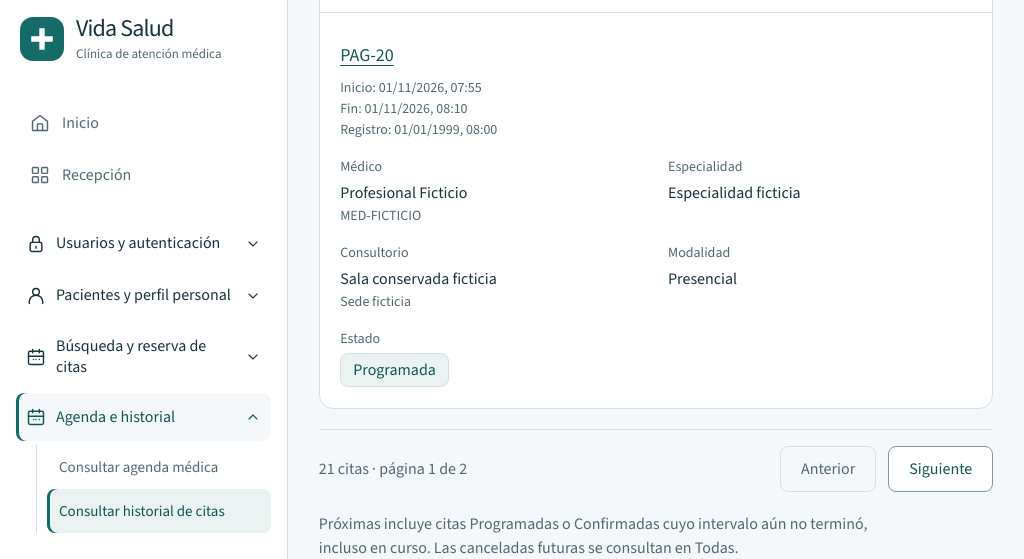
Recepcionista pagina y vuelve del detalle conservando criterios, sin guardar citas
(page scrolled)
Click the button "Siguiente" at (941, 469), box [888, 446, 993, 492]
(page scrolled)
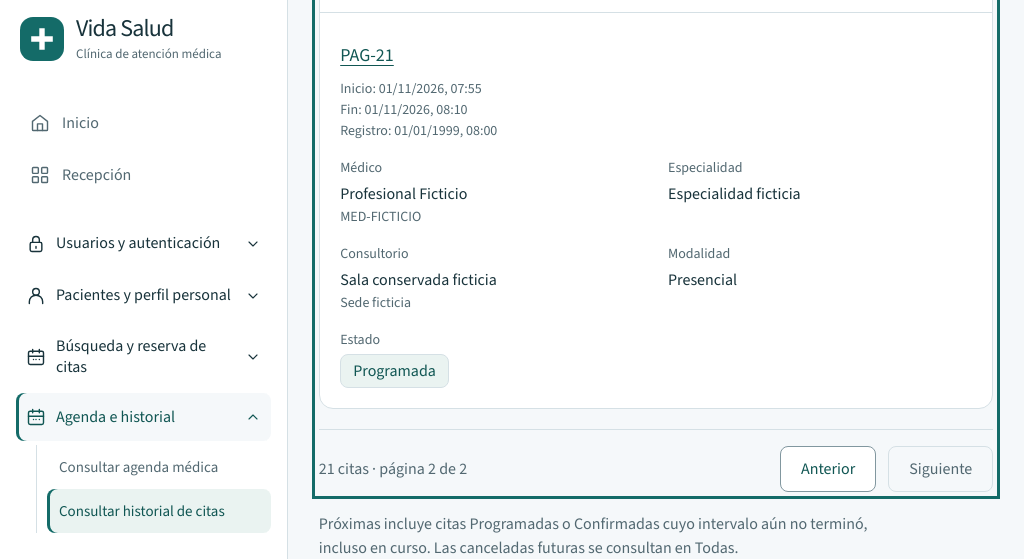
Click the link with aria-label "Ver cita PAG-21" at (367, 55), box [340, 43, 394, 67]
(page scrolled)
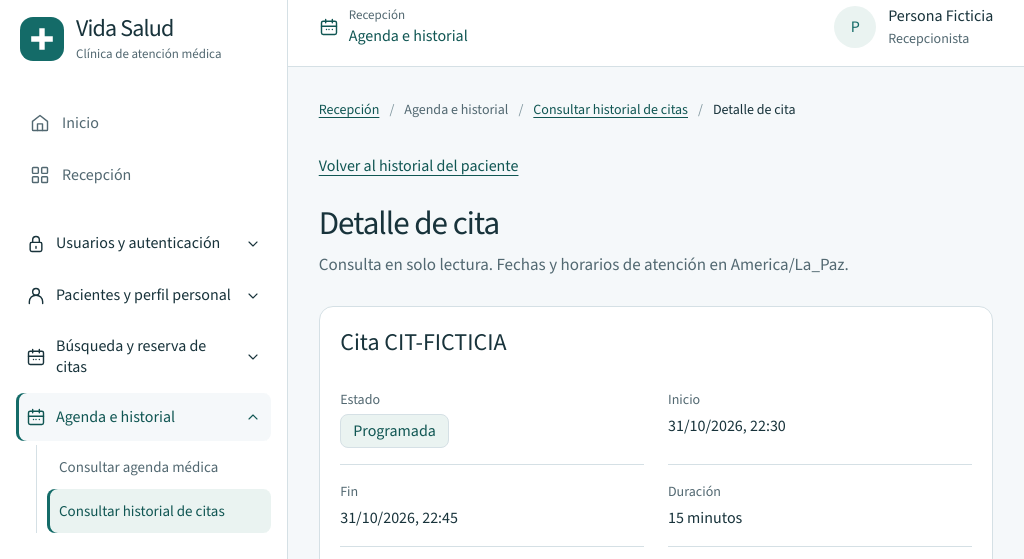
Click the link "Volver al historial del paciente" at (419, 166), box [319, 155, 518, 176]
(page scrolled)
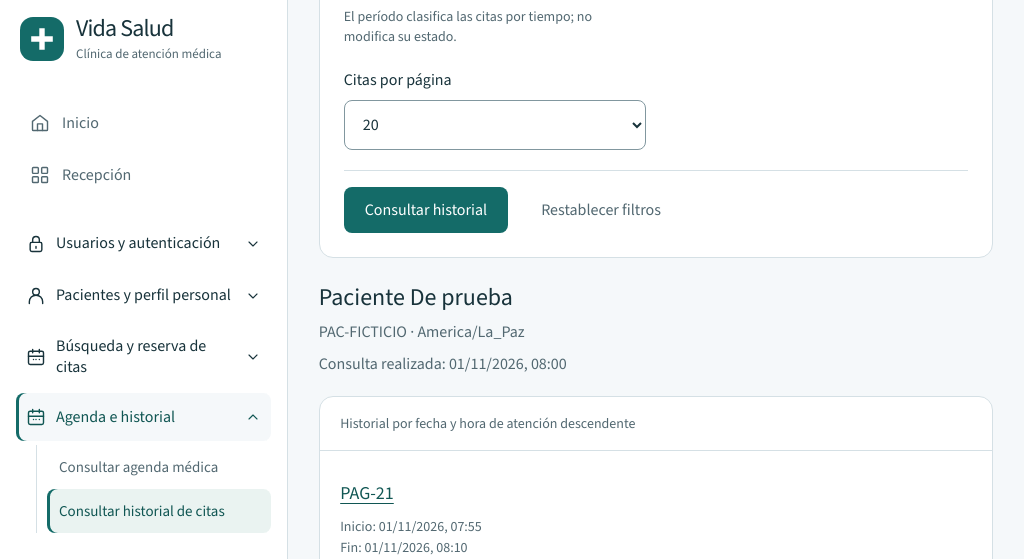
Result: the link with aria-label "Ver cita PAG-21" is shown at [340, 481, 394, 505]
